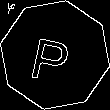P_N: (31, 26, 79, 84)
